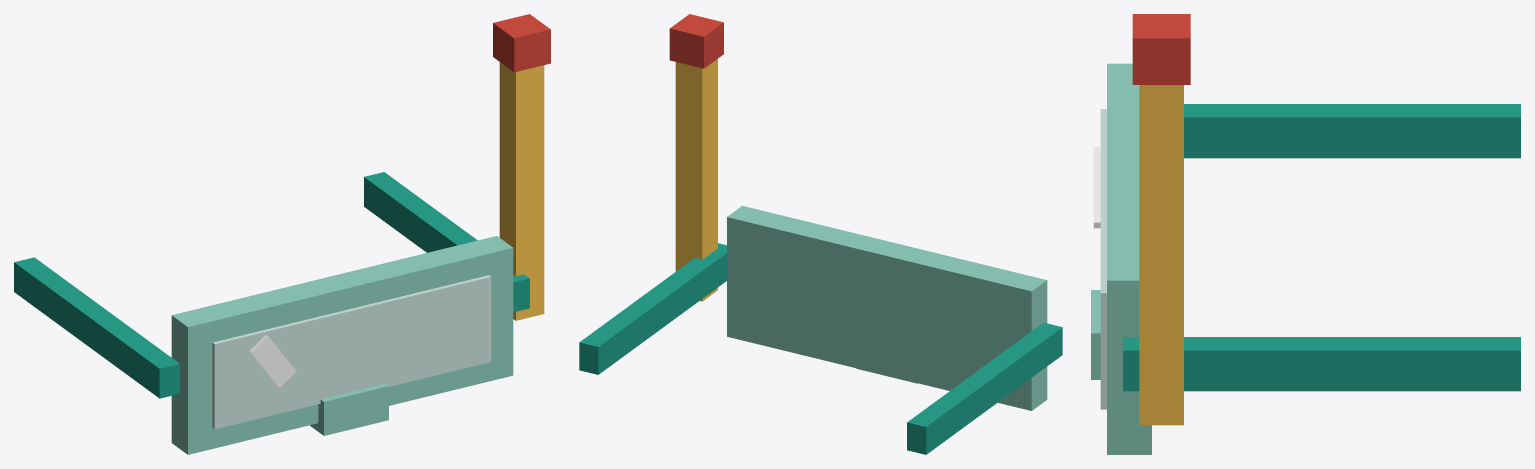
Rendered from CatCafe_Accessory_SnorkelMask.glb.
The picture shows the model from 3 angles, left to right: view 1: azimuth 30°, elevation 25°; view 2: azimuth 150°, elevation 25°; view 3: azimuth 270°, elevation 25°; orthographic projection. The views are drawn at different scales.
Parts seen in each view (by area): view 1: CatCafe_Accessory_SnorkelMask; view 2: CatCafe_Accessory_SnorkelMask; view 3: CatCafe_Accessory_SnorkelMask.
Part boxes in pixels (bbox=[...]): CatCafe_Accessory_SnorkelMask: bbox=[14, 14, 550, 454]; CatCafe_Accessory_SnorkelMask: bbox=[579, 14, 1062, 454]; CatCafe_Accessory_SnorkelMask: bbox=[1091, 14, 1520, 454].
Bounding box in the file's own units: 0.97 × 0.79 × 0.67.
Materials: 1 (1 with a texture image).
